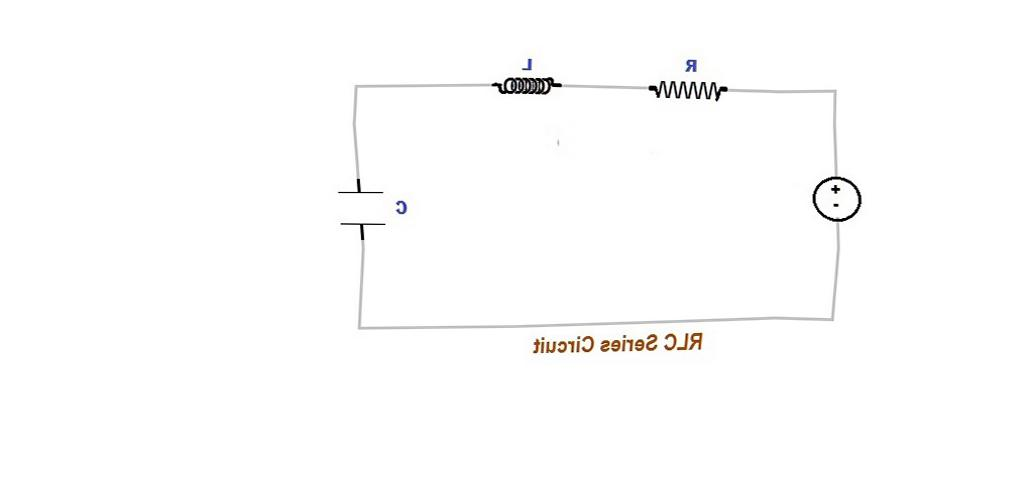Battery: (784, 151, 882, 245)
